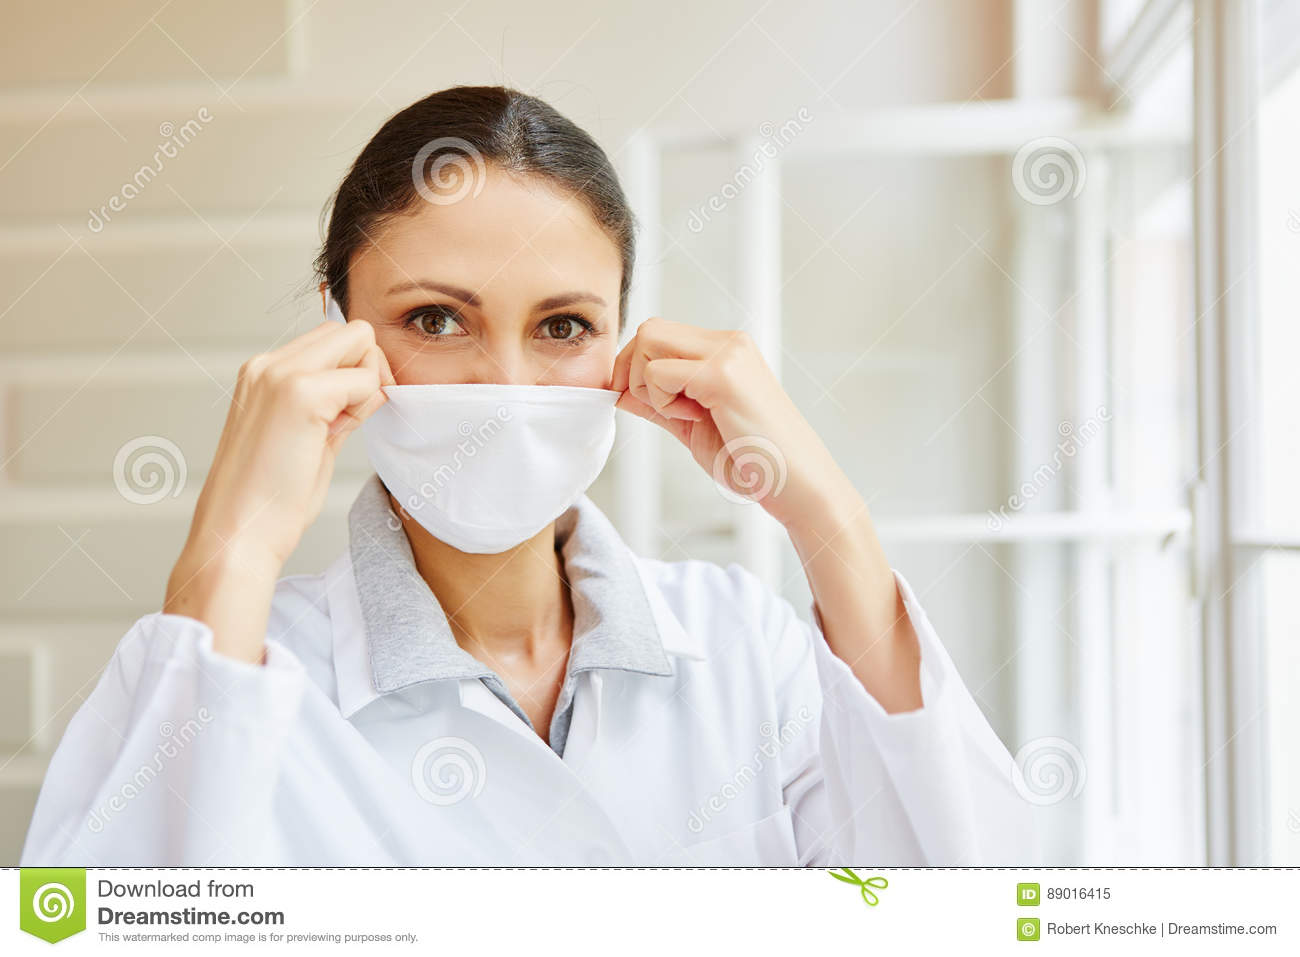mask: (354, 371, 641, 561)
